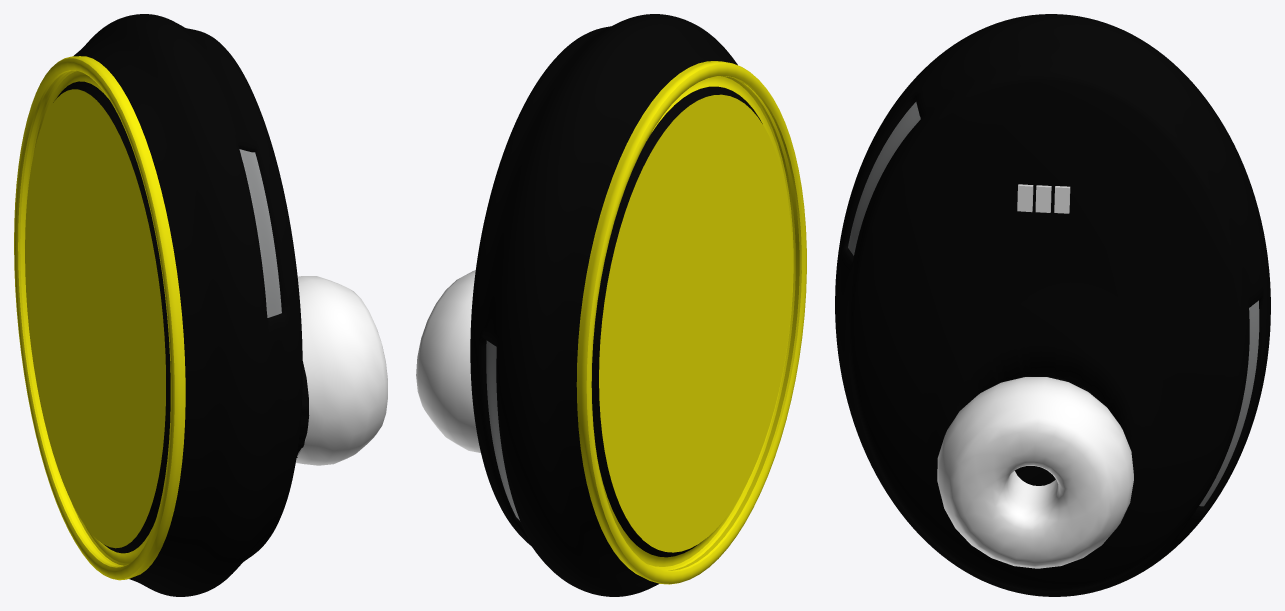
The model's file is earbuds.gltf.
The picture shows the model from 3 angles, left to right: view 1: azimuth 30°, elevation 25°; view 2: azimuth 150°, elevation 25°; view 3: azimuth 270°, elevation 25°; orthographic projection. The views are drawn at different scales.
Parts seen in each view (by area): view 1: top button-primary_color (×5), bottom-secondary_color, Lathe_remesh, top button-secondary_color (×2), bottom-Speaker; view 2: top button-primary_color (×6), bottom-secondary_color, Lathe_remesh, top button-secondary_color (×2), bottom-Speaker; view 3: bottom-secondary_color, Lathe_remesh, bottom-Speaker (×2).
Part boxes in pixels (x1,y1,x2,y2): top button-primary_color (×5): [14, 56, 185, 580]; bottom-secondary_color: [73, 14, 309, 596]; Lathe_remesh: [295, 276, 387, 465]; top button-secondary_color (×2): [53, 81, 170, 553]; bottom-Speaker: [239, 149, 281, 317]; top button-primary_color (×6): [576, 61, 806, 584]; bottom-secondary_color: [470, 14, 737, 596]; Lathe_remesh: [416, 270, 480, 452]; top button-secondary_color (×2): [591, 86, 762, 557]; bottom-Speaker: [486, 340, 519, 520]; bottom-secondary_color: [835, 14, 1270, 596]; Lathe_remesh: [937, 377, 1133, 568]; bottom-Speaker (×2): [848, 102, 1259, 506].
Size of the model in its own units: 2.08 by 4.05 by 2.79.
